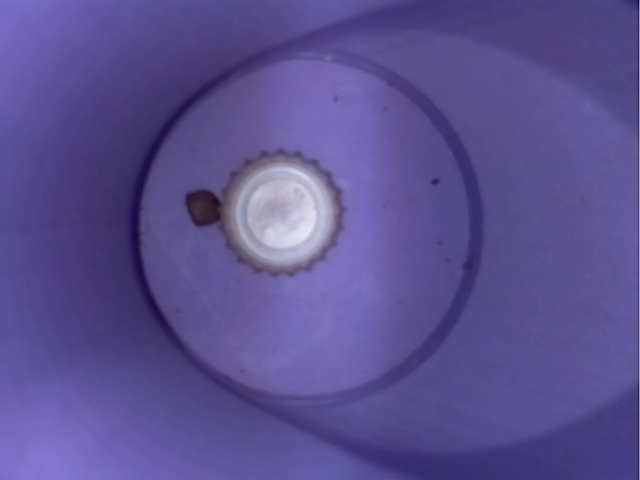capsule: (216, 145, 352, 284)
croquette: (182, 185, 226, 245)
